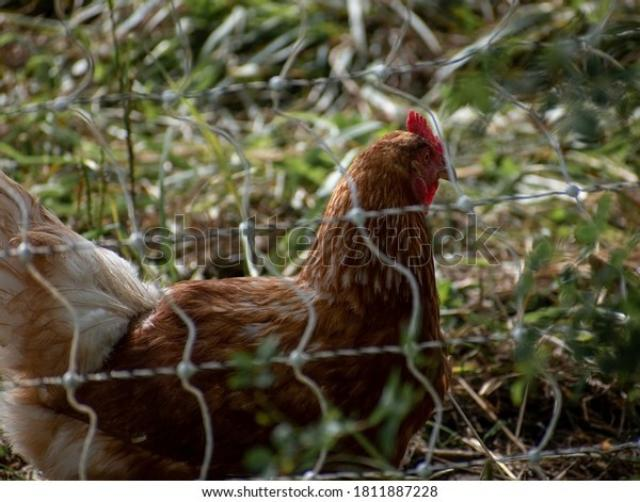Chicken: (0, 111, 459, 479)
